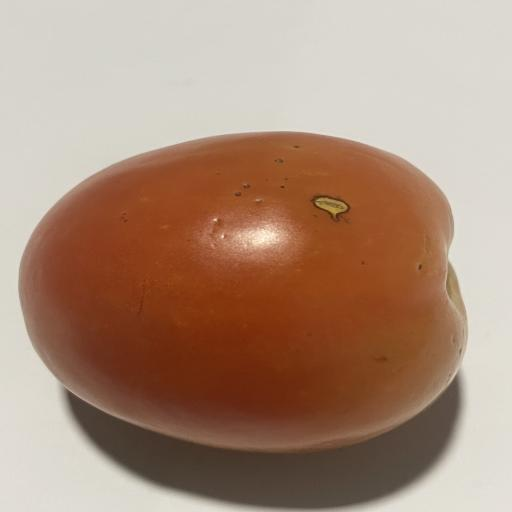unripe: (19, 132, 467, 452)
